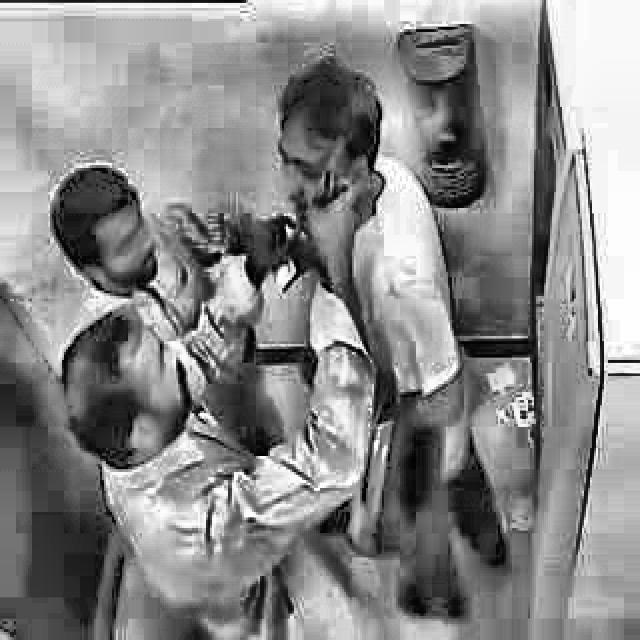robbery: (53, 55, 391, 636)
